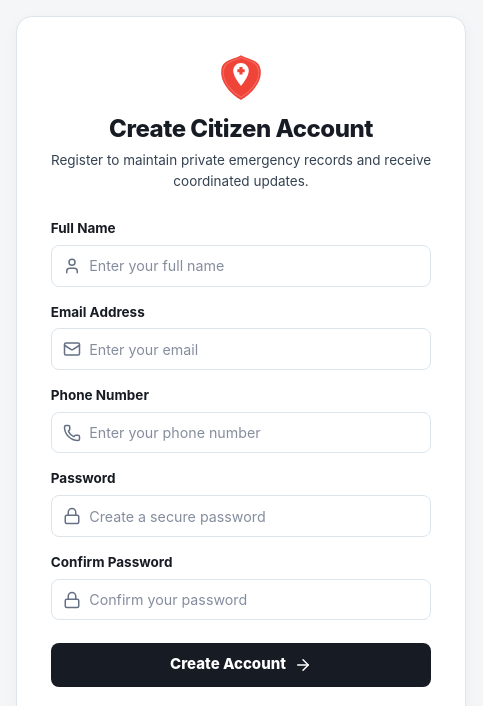
User Authentication & Registration System › validates password mismatch on registration
This screenshot has width=483, height=706.
Step 1. Type "Rohan Sharma" into the field with placeholder "Enter your full name" → (241, 266), box x1=51 y1=245 x2=431 y2=286
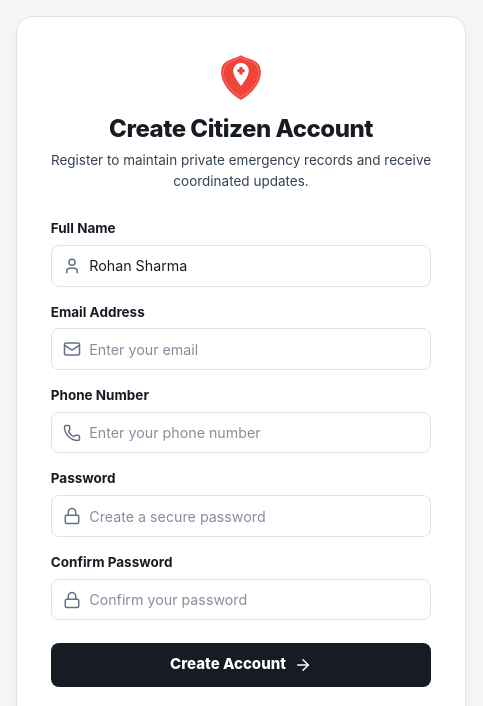
Step 2. Type "rohan@example.com" into the field with placeholder "Enter your email" → (241, 349), box x1=51 y1=328 x2=431 y2=370
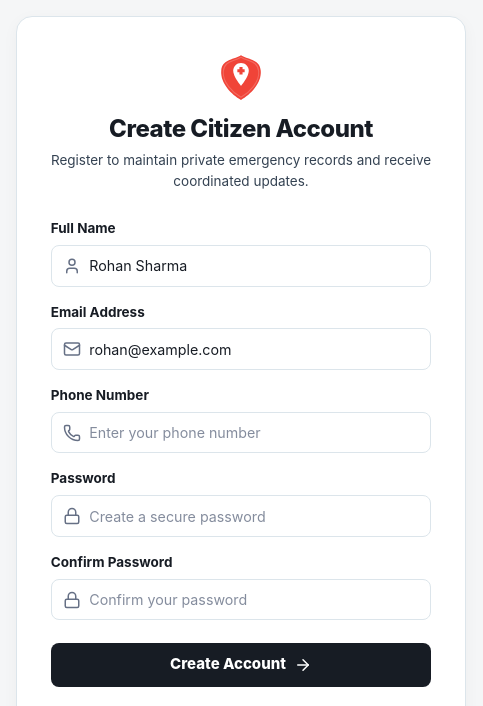
Step 3. Type "9876543210" into the field with placeholder "Enter your phone number" → (241, 433), box x1=51 y1=412 x2=431 y2=453
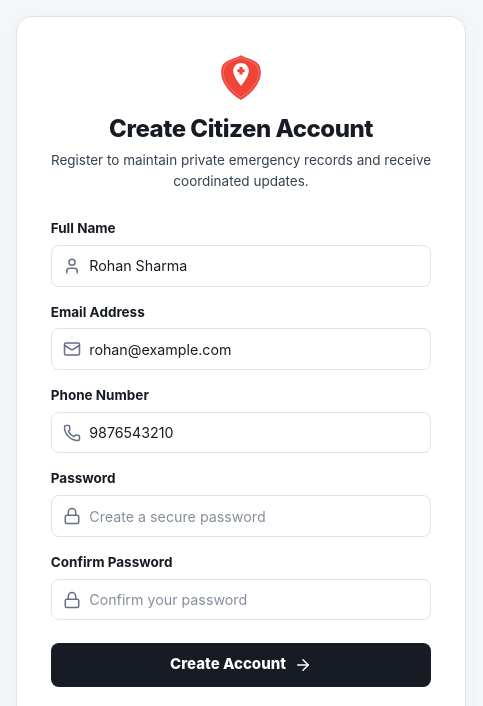
Step 4. Type "secret123" into the password field with placeholder "Create a secure password" → (241, 516), box x1=51 y1=495 x2=431 y2=537
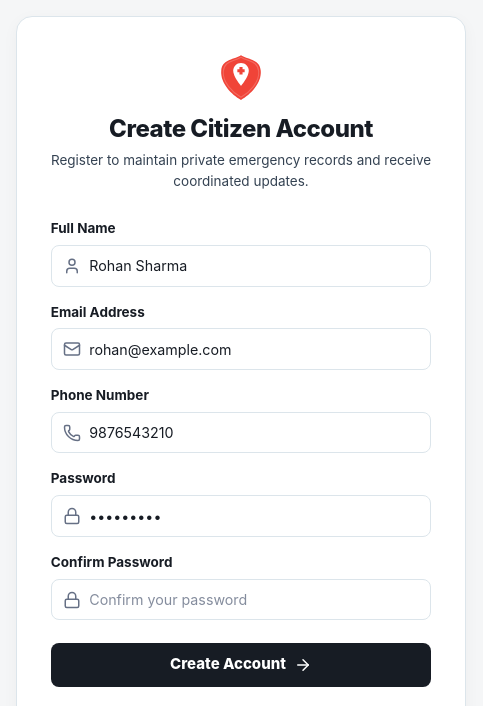
Step 5. Type "mismatch456" into the password field with placeholder "Confirm your password" → (241, 599), box x1=51 y1=579 x2=431 y2=620
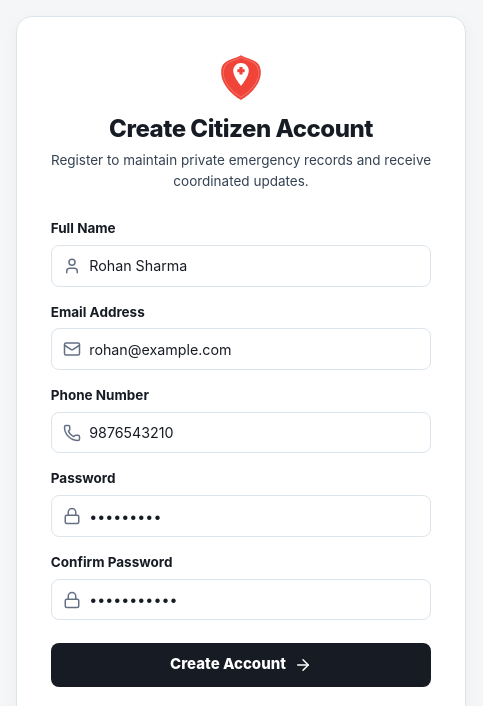
Step 6. Click the button "Create Account" → (241, 665), box x1=51 y1=643 x2=431 y2=687
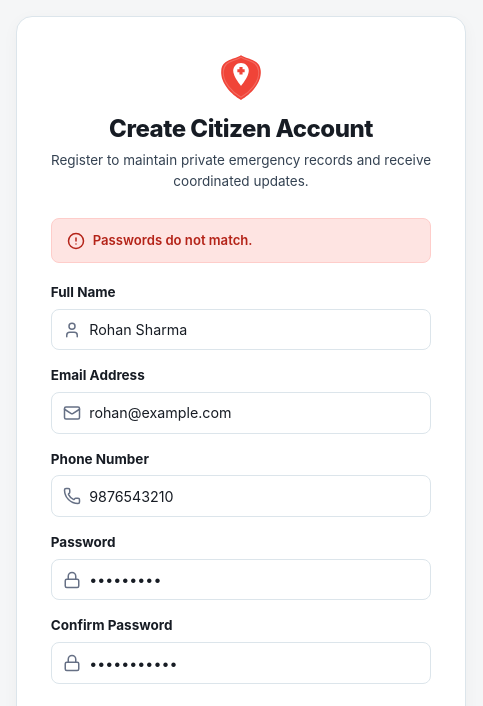
Now the text "Passwords do not match." is shown, box x1=93 y1=230 x2=252 y2=251
